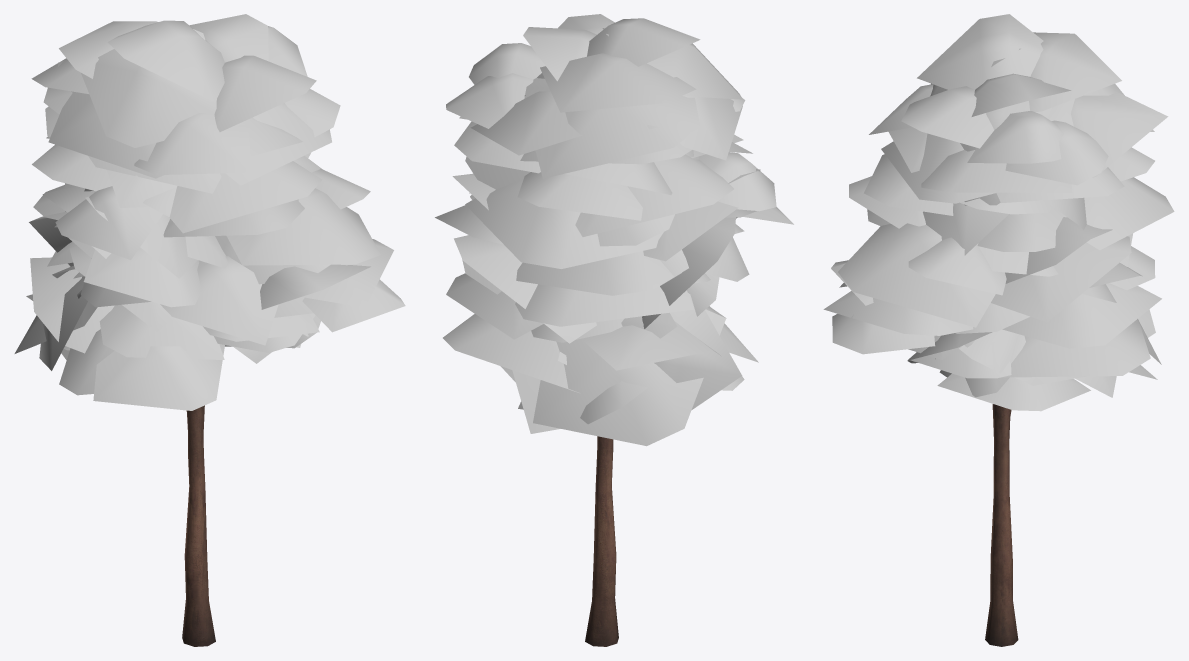
Rendered from Diospyros_Tree.fbx.
3 views of the same model, side by side, from view 1: azimuth 30°, elevation 25°; view 2: azimuth 150°, elevation 25°; view 3: azimuth 270°, elevation 25° (orthographic). The views are drawn at different scales.
Visible parts, largest first — view 1: Tree_LOD0; view 2: Tree_LOD0; view 3: Tree_LOD0.
Part boxes in pixels (bbox=[...]): Tree_LOD0: bbox=[14, 14, 405, 646]; Tree_LOD0: bbox=[435, 14, 793, 646]; Tree_LOD0: bbox=[823, 14, 1174, 646].
Size of what is drawn, in the model's own units: 500 by 988 by 530.
